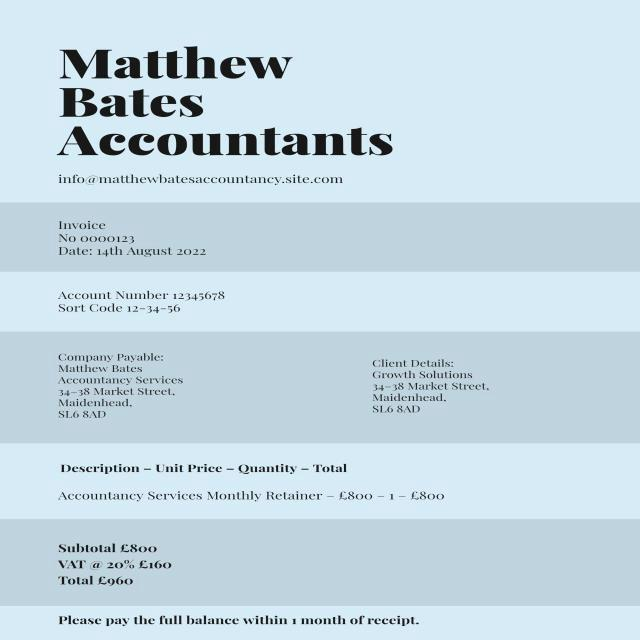paragraph: (51, 36, 403, 194), (51, 456, 453, 508), (45, 343, 195, 428), (363, 347, 498, 420), (49, 209, 215, 265), (52, 607, 426, 631), (49, 535, 177, 591), (49, 281, 235, 319)
